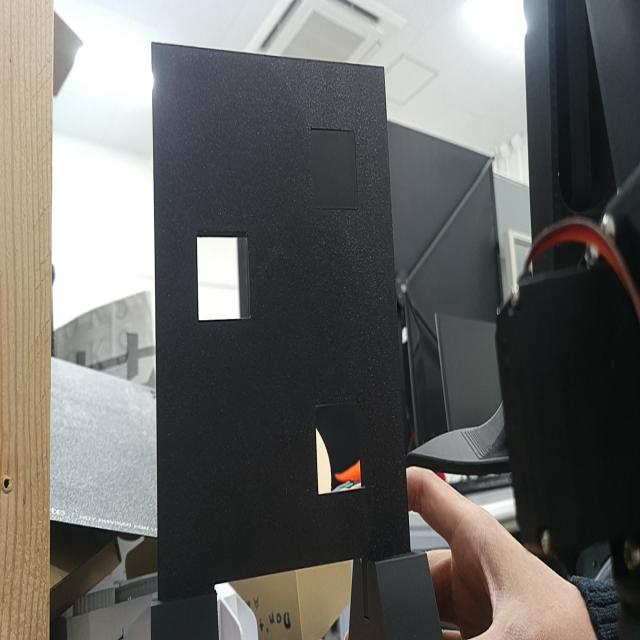Obstacle: (316, 403, 365, 495), (196, 236, 249, 319)
Wall: (152, 44, 410, 587)
